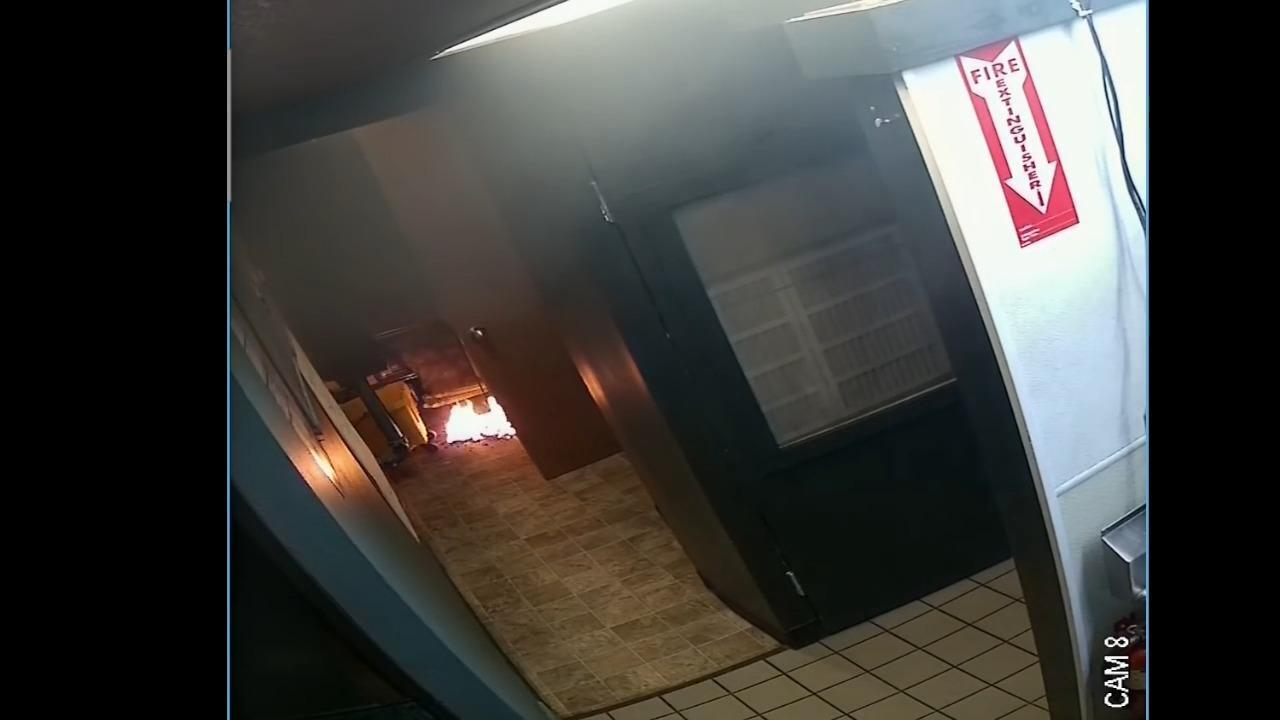fire: (445, 396, 516, 444)
